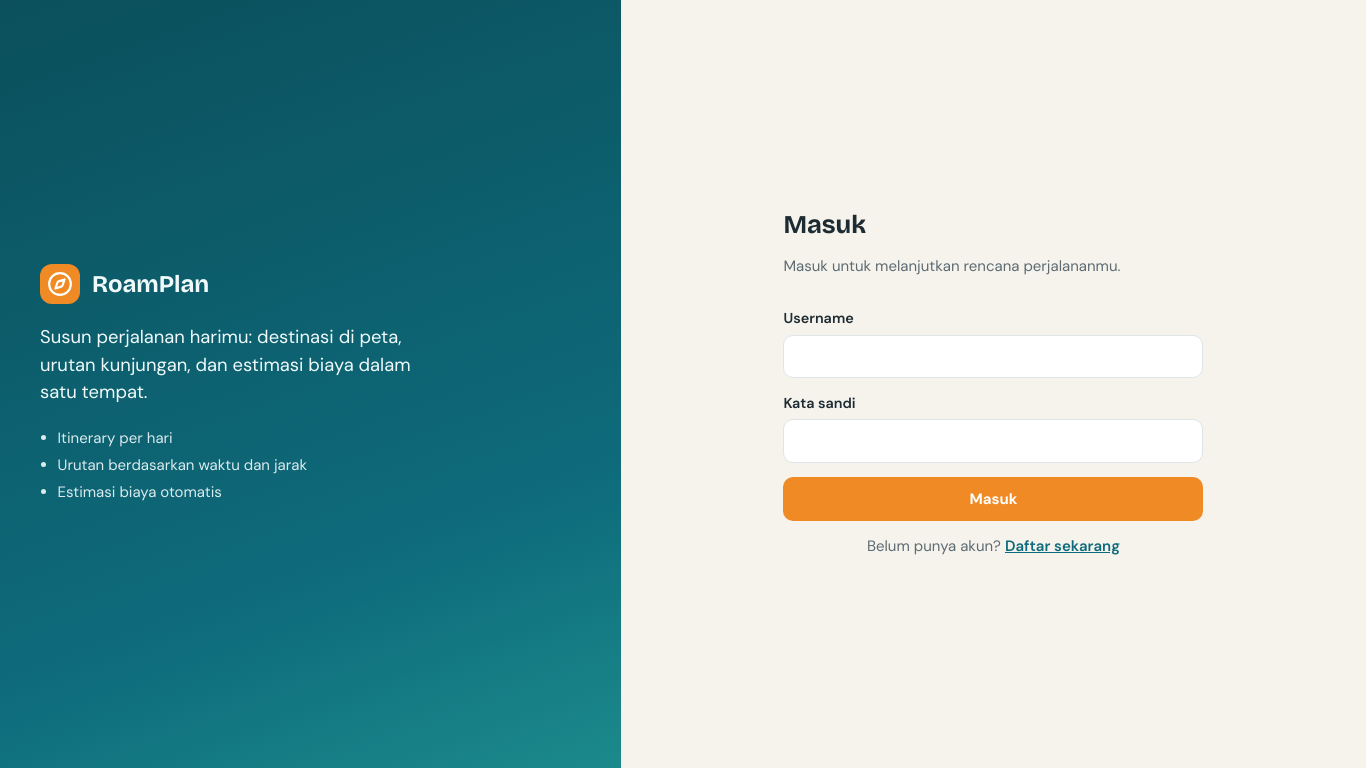
halaman masuk (terpisah dari daftar) › menampilkan pesan galat dari server
Type "alice01" into the field labelled "Username".
click(993, 356); type("alice01")  # box [783,335,1203,378]
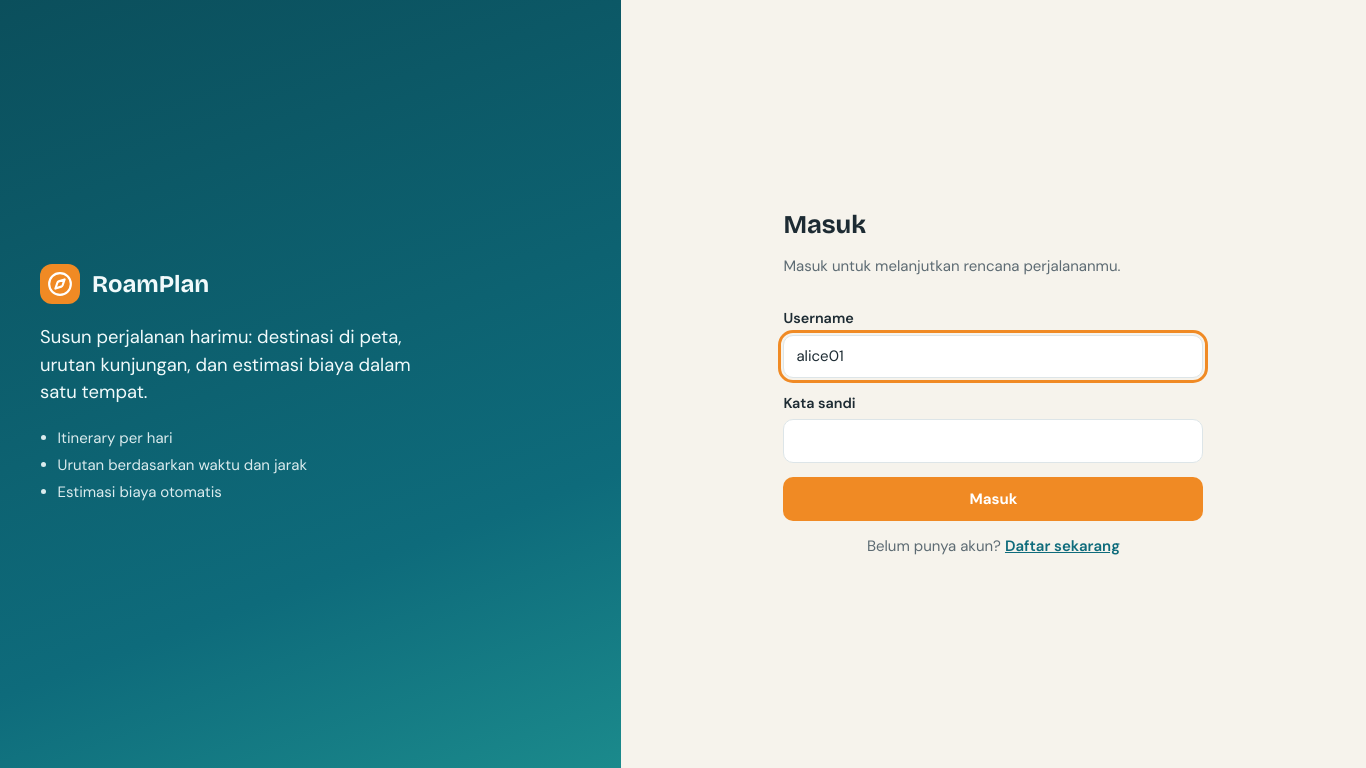
Type "salah1234" into the password field labelled "Kata sandi".
click(993, 441); type("salah1234")  # box [783,419,1203,463]
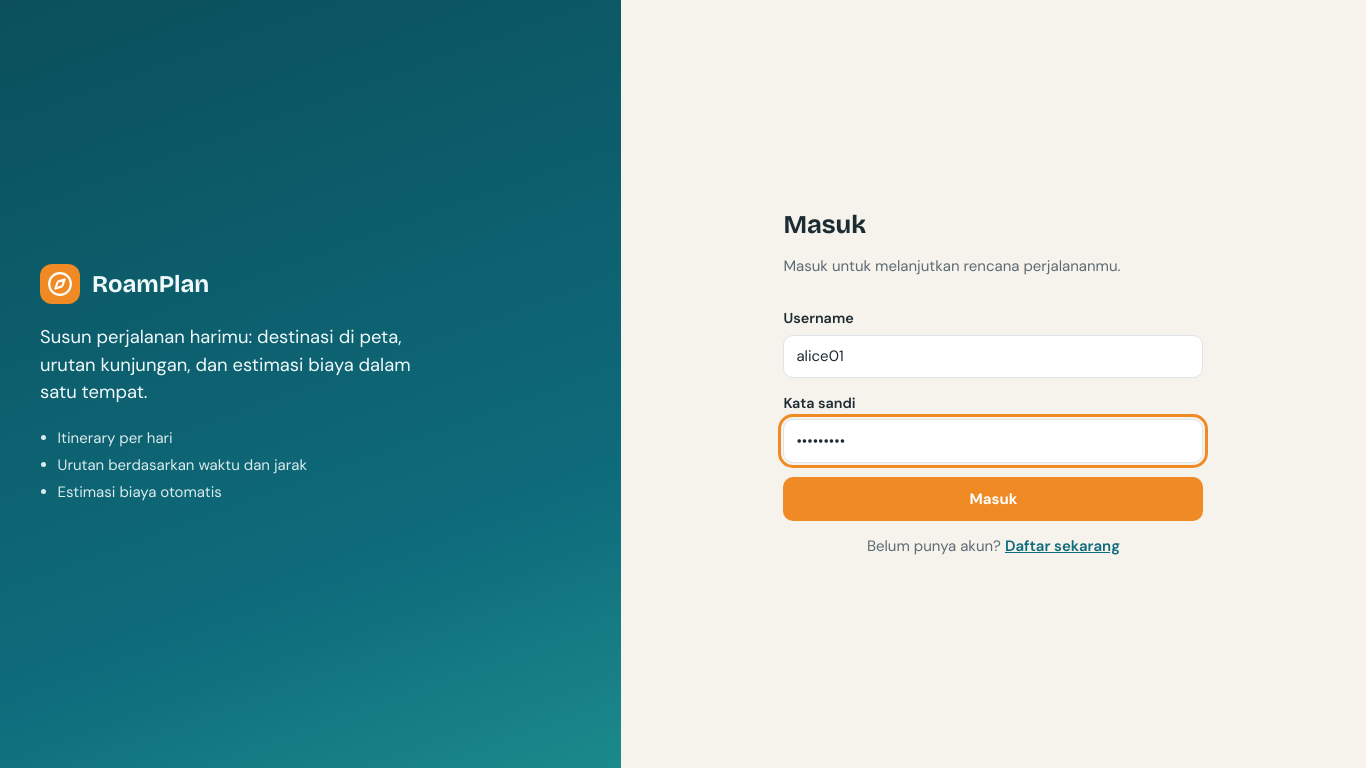
Click the button "Masuk".
click(993, 499)  # box [783,477,1203,521]
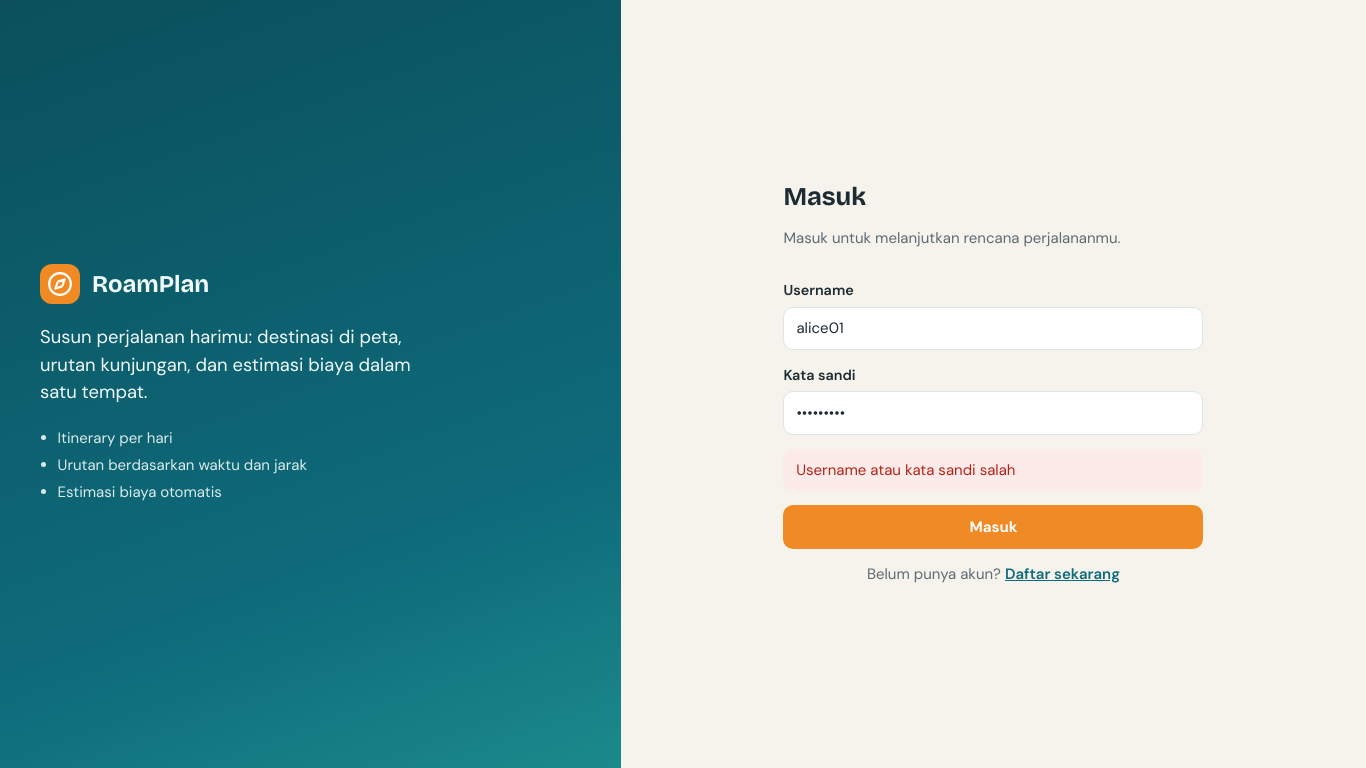
Check: the message reads "Username atau kata sandi salah", box [796,460,1016,480]
